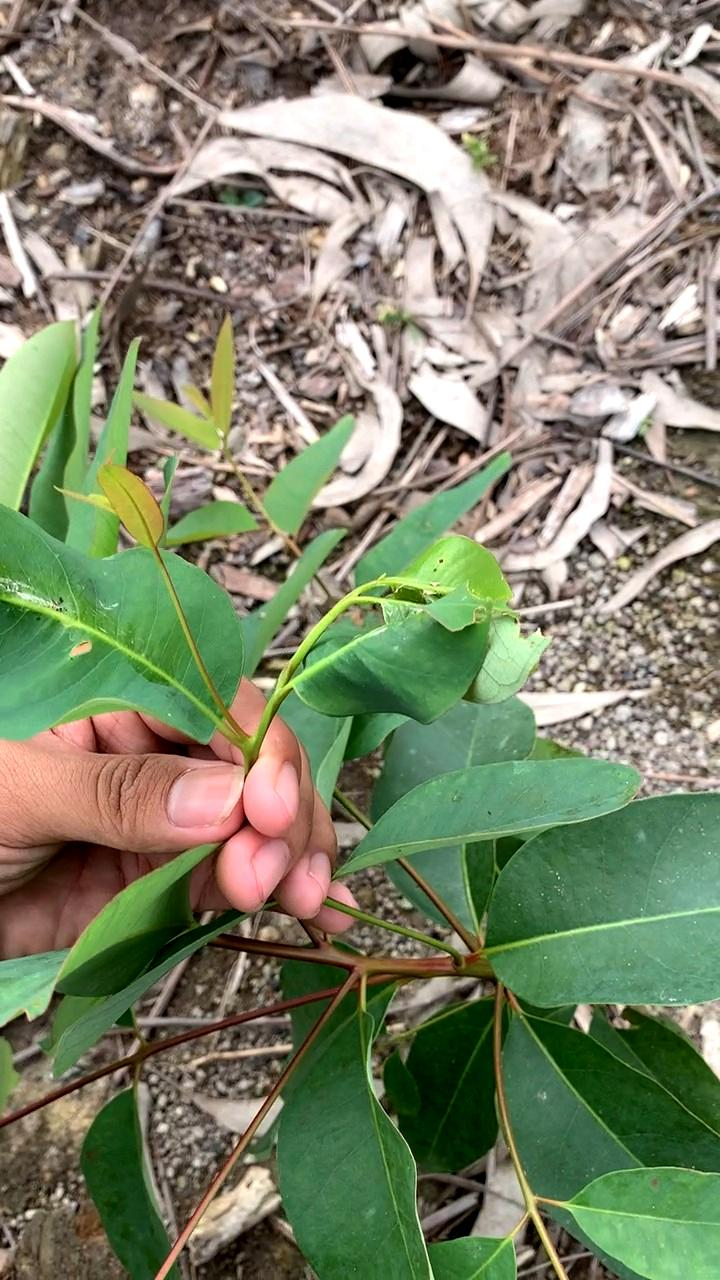Leaf Roller - Leaf: (266, 548, 521, 743)
